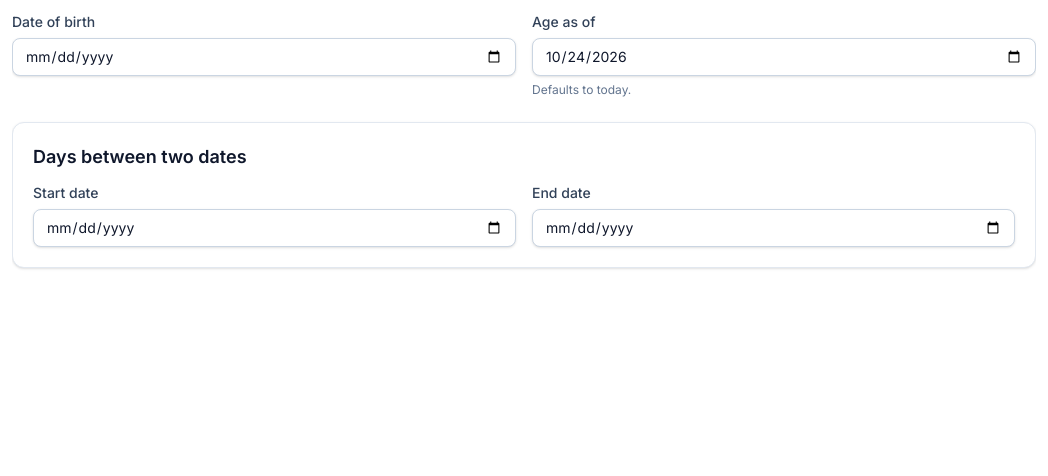
AgeCalculator › computes age from a date of birth and reference date
In the date field labelled "Date of birth": (264, 57) [12,38,516,76], type "1990-06-15"
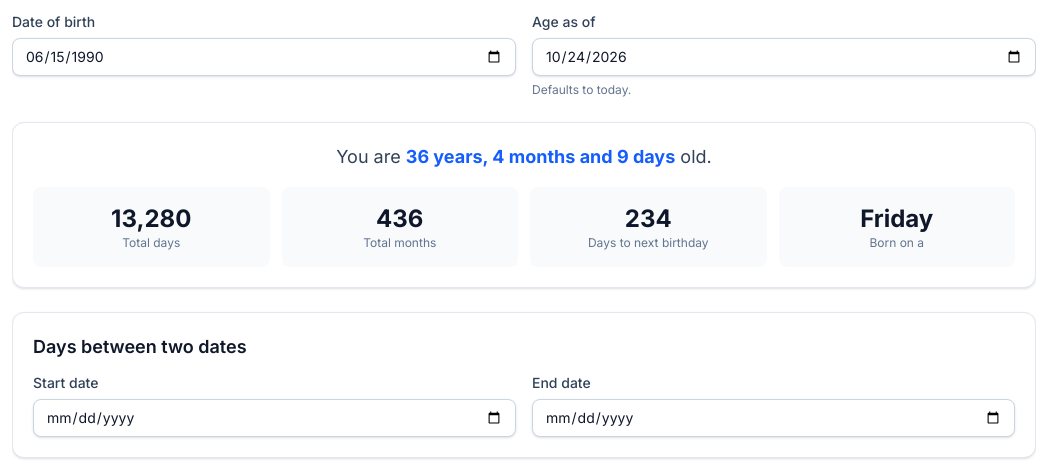
In the date field labelled "Age as of": (784, 57) [532,38,1036,76], type "2024-06-15"
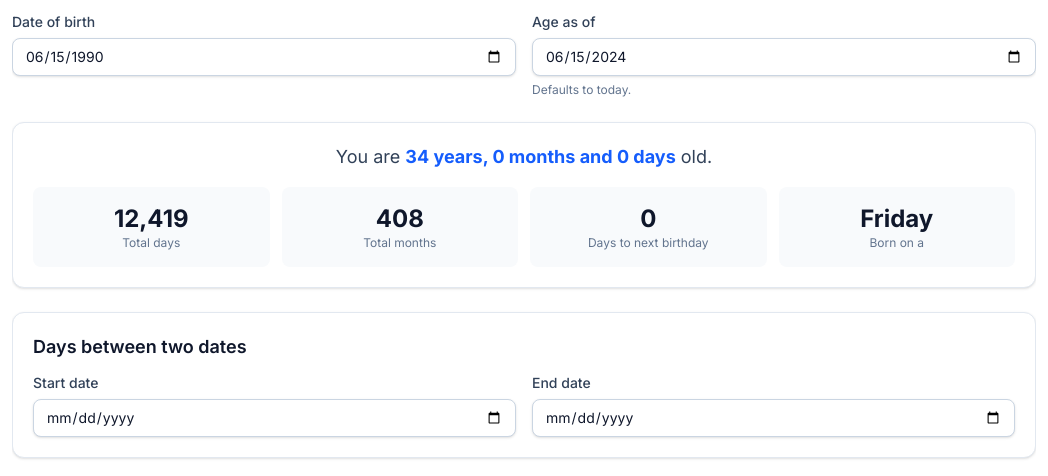
Result: the text "34 years, 0 months and 0 days" is shown at [405,146,676,167]
